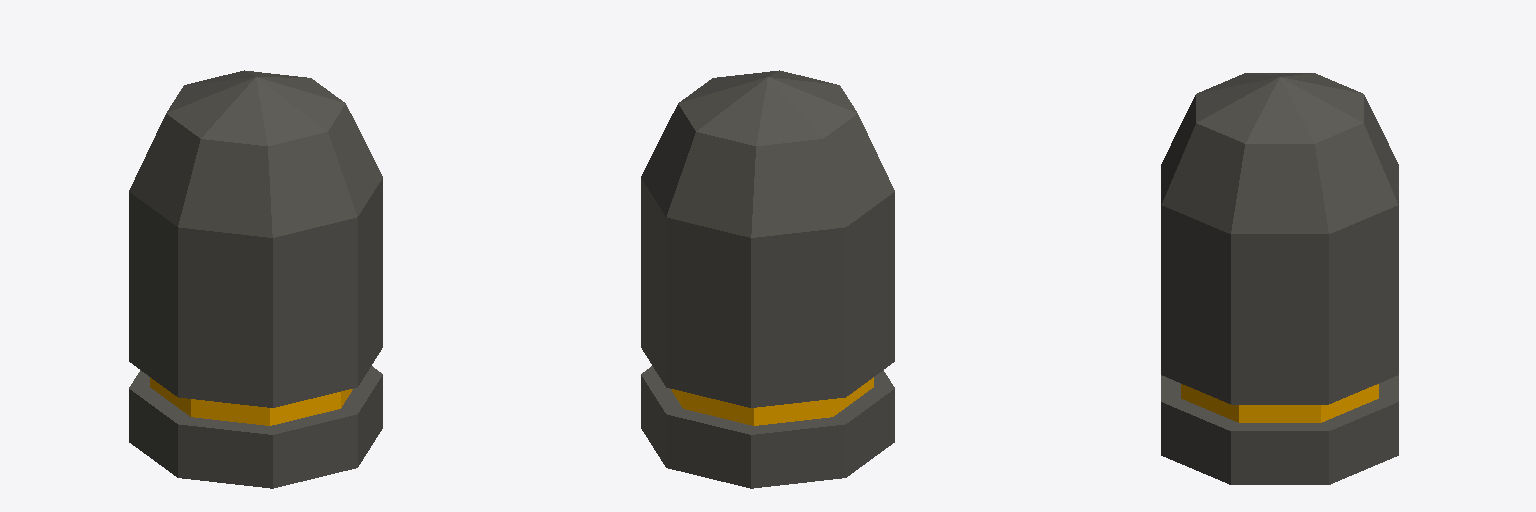
3 views of the same model, side by side, from view 1: azimuth 30°, elevation 25°; view 2: azimuth 150°, elevation 25°; view 3: azimuth 270°, elevation 25° (orthographic).
Visible parts, largest first — view 1: cylinder; view 2: cylinder; view 3: cylinder.
Part boxes in pixels (left/top/right/bottom): cylinder: left=129, top=70, right=382, bottom=488; cylinder: left=641, top=70, right=894, bottom=488; cylinder: left=1161, top=73, right=1398, bottom=484.
Bounding box in the file's own units: 0.375 × 0.625 × 0.375.
Materials: 1 (1 with a texture image).